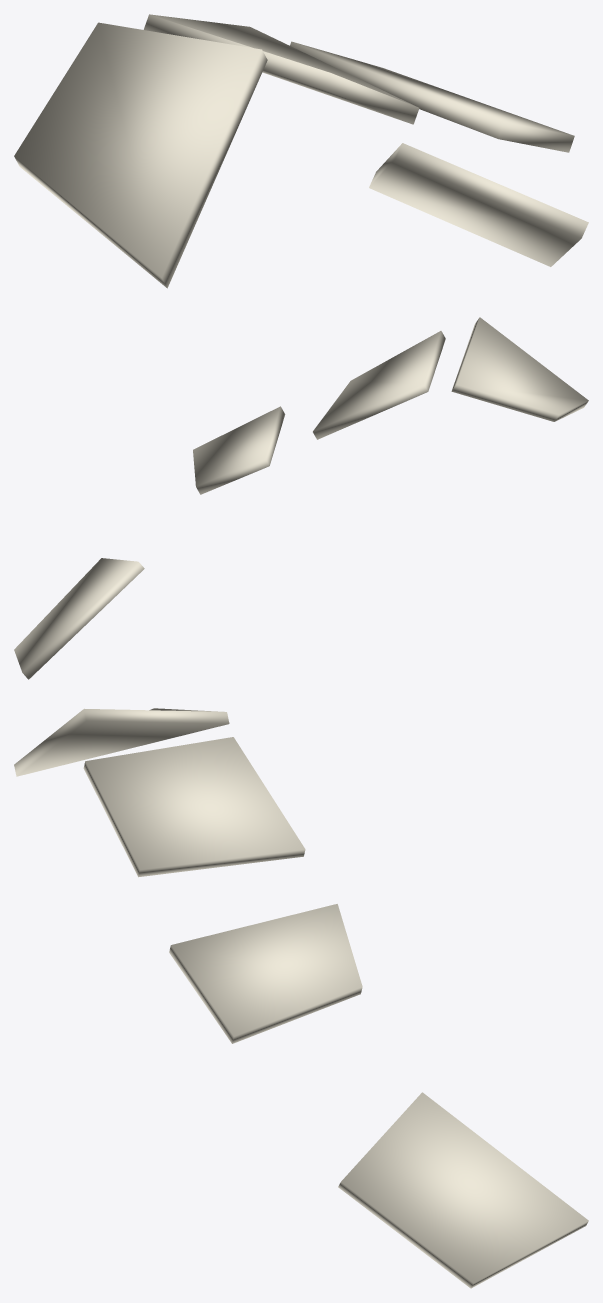
3 renders of one model, top to bottom at view 1: azimuth 30°, elevation 25°; view 2: azimuth 150°, elevation 25°; view 3: azimuth 270°, elevation 25°, orthographic. The views are drawn at different scales.
Visible parts, largest first — view 1: ZA_e1e4766258dfa2e5; view 2: ZA_e1e4766258dfa2e5; view 3: ZA_e1e4766258dfa2e5.
Part boxes in pixels (box(x1,y1,x2,y2)): ZA_e1e4766258dfa2e5: box(14, 14, 588, 288); ZA_e1e4766258dfa2e5: box(14, 317, 588, 679); ZA_e1e4766258dfa2e5: box(14, 708, 588, 1288).
Size of the model in its own units: 0.0251 by 0.0173 by 0.0233.
